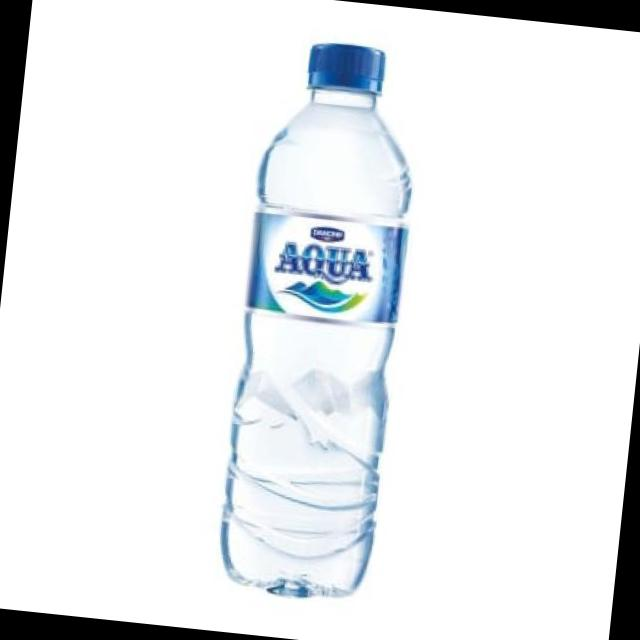plastic_bottle: (214, 36, 426, 604)
